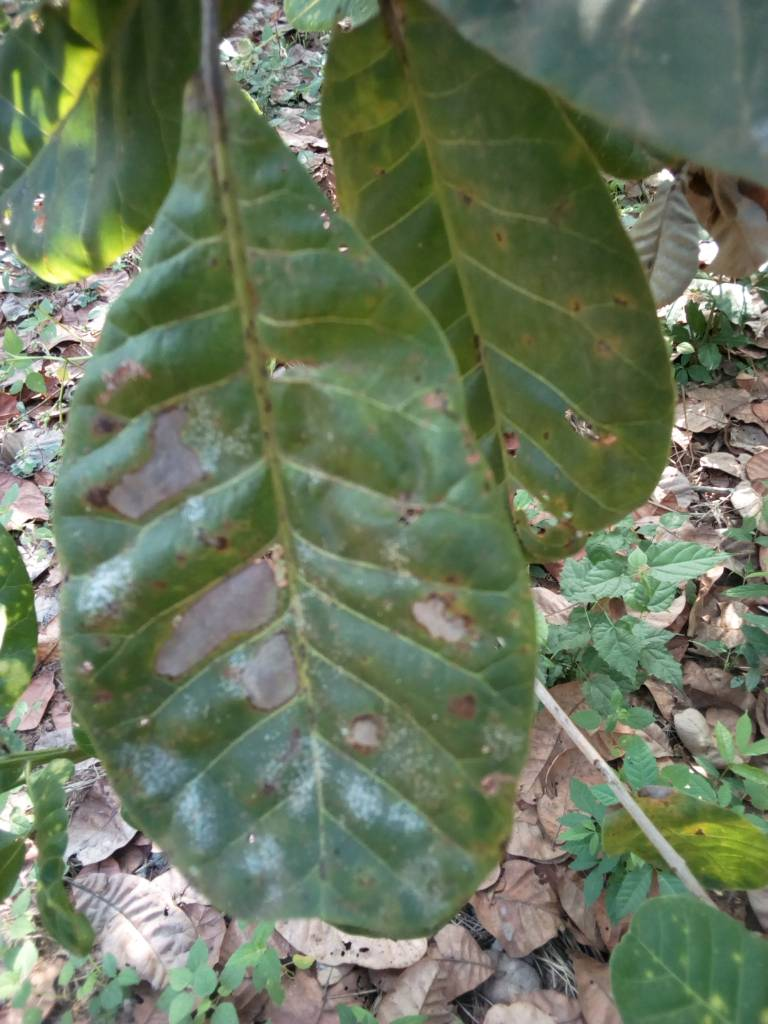Pestalotiose: (357, 27, 671, 541)
